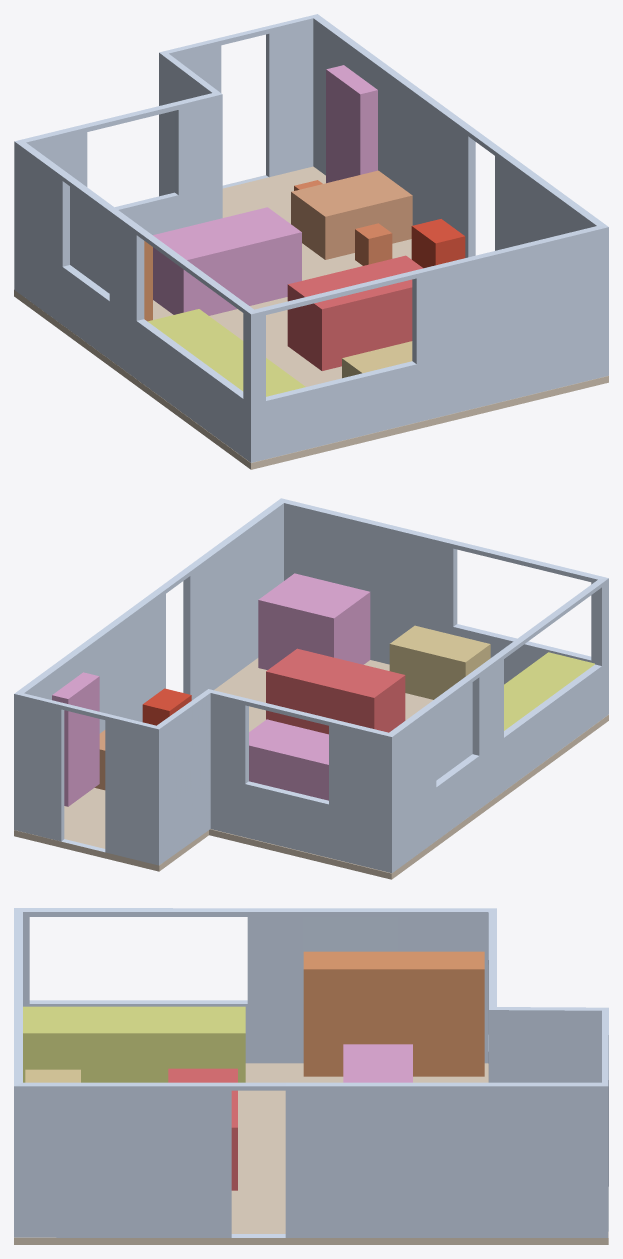
Rendered from atelier.glb.
The picture shows the model from 3 angles, top to bottom: view 1: azimuth 30°, elevation 25°; view 2: azimuth 150°, elevation 25°; view 3: azimuth 270°, elevation 25°; orthographic projection. The views are drawn at different scales.
Visible parts, largest first — view 1: MUR, SOL, MASTICAGE, ASSEMBALGE, BUREAU, MASTICAGE.001, COLORATION, DECOUPE LASER, TABLE LUMINEUSE, CHAISE, RANGEMENT VERRE; view 2: MUR, ASSEMBALGE, FOUR, SOL, MASTICAGE, TABLE LUMINEUSE, MASTICAGE.001, COLORATION, DECOUPE LASER; view 3: MUR, RANGEMENT VERRE, COLORATION, SOL, MASTICAGE, ASSEMBALGE, TABLE LUMINEUSE.
Boxes of the visible parts, left/top/right/bottom form: MUR: left=14, top=14, right=608, bottom=462; SOL: left=14, top=166, right=608, bottom=469; MASTICAGE: left=153, top=207, right=301, bottom=315; ASSEMBALGE: left=287, top=255, right=422, bottom=370; BUREAU: left=291, top=170, right=412, bottom=259; MASTICAGE.001: left=326, top=65, right=377, bottom=183; COLORATION: left=147, top=309, right=305, bottom=396; DECOUPE LASER: left=411, top=219, right=465, bottom=268; TABLE LUMINEUSE: left=342, top=341, right=412, bottom=378; CHAISE: left=355, top=223, right=392, bottom=265; RANGEMENT VERRE: left=144, top=241, right=152, bottom=321; MUR: left=14, top=498, right=608, bottom=873; ASSEMBALGE: left=266, top=648, right=405, bottom=734; FOUR: left=258, top=573, right=370, bottom=669; SOL: left=14, top=658, right=608, bottom=879; MASTICAGE: left=249, top=719, right=328, bottom=800; TABLE LUMINEUSE: left=389, top=625, right=490, bottom=699; MASTICAGE.001: left=52, top=672, right=99, bottom=806; COLORATION: left=504, top=652, right=594, bottom=730; DECOUPE LASER: left=142, top=688, right=191, bottom=725; MUR: left=14, top=908, right=608, bottom=1237; RANGEMENT VERRE: left=303, top=951, right=484, bottom=1076; COLORATION: left=23, top=1006, right=245, bottom=1082; SOL: left=14, top=1063, right=608, bottom=1244; MASTICAGE: left=343, top=1044, right=412, bottom=1082; ASSEMBALGE: left=168, top=1068, right=237, bottom=1190; TABLE LUMINEUSE: left=25, top=1069, right=80, bottom=1082.
Size of the model in its own units: 6.05 by 2.51 by 8.54.
